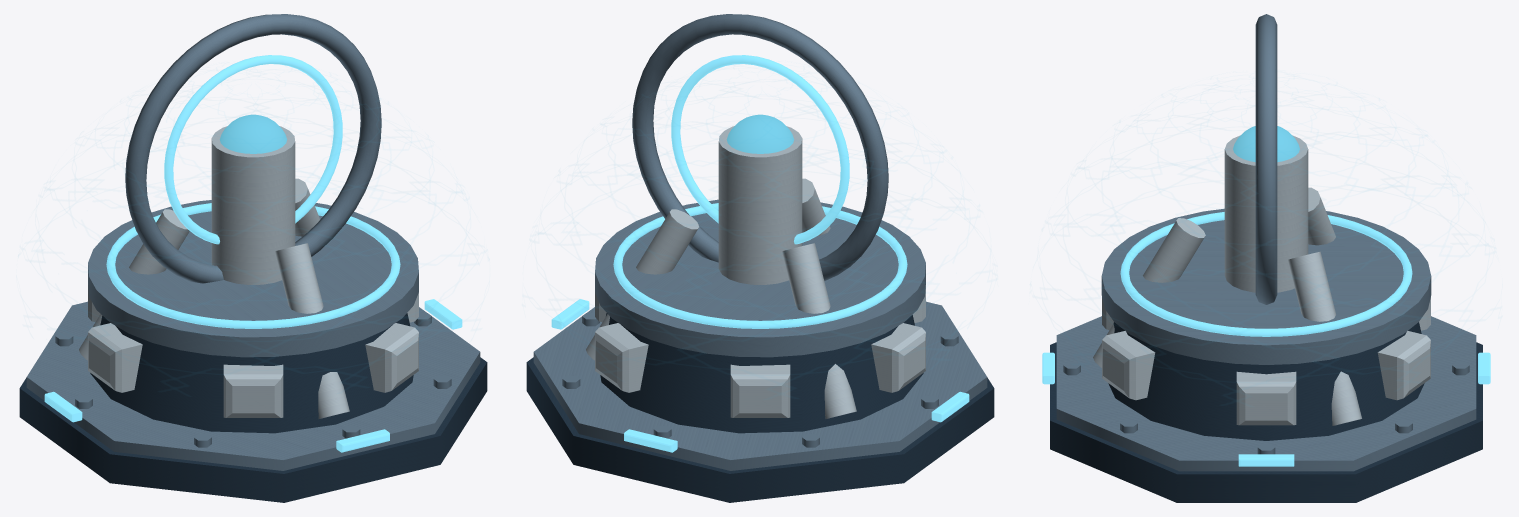
Rendered from shield.glb.
3 renders of one model, left to right at view 1: azimuth 30°, elevation 25°; view 2: azimuth 150°, elevation 25°; view 3: azimuth 270°, elevation 25°, orthographic.
Parts seen in each view (by area): view 1: Brushed titanium (×2), Graphite composite, Ceramic titanium armor, Status light (×2), Model component, Coolant conduit; view 2: Brushed titanium (×2), Graphite composite, Ceramic titanium armor, Status light (×2), Model component, Coolant conduit; view 3: Brushed titanium (×2), Graphite composite, Ceramic titanium armor, Status light (×2), Coolant conduit.
Part boxes in pixels (x1,y1,x2,y2): Brushed titanium (×2): (26, 14, 480, 470); Graphite composite: (19, 313, 487, 502); Ceramic titanium armor: (79, 126, 418, 418); Status light (×2): (44, 203, 462, 452); Model component: (164, 55, 342, 244); Coolant conduit: (219, 114, 287, 153); Brushed titanium (×2): (533, 14, 987, 470); Graphite composite: (526, 313, 994, 502); Ceramic titanium armor: (586, 126, 925, 418); Status light (×2): (551, 203, 969, 452); Model component: (671, 55, 849, 244); Coolant conduit: (726, 114, 794, 153); Brushed titanium (×2): (1056, 14, 1476, 471); Graphite composite: (1050, 322, 1482, 502); Ceramic titanium armor: (1093, 135, 1430, 425); Status light (×2): (1042, 212, 1490, 466); Coolant conduit: (1233, 126, 1299, 162).
Size of the model in its own units: 2.4 by 2.14 by 2.4.
6 materials, 4 textured.
